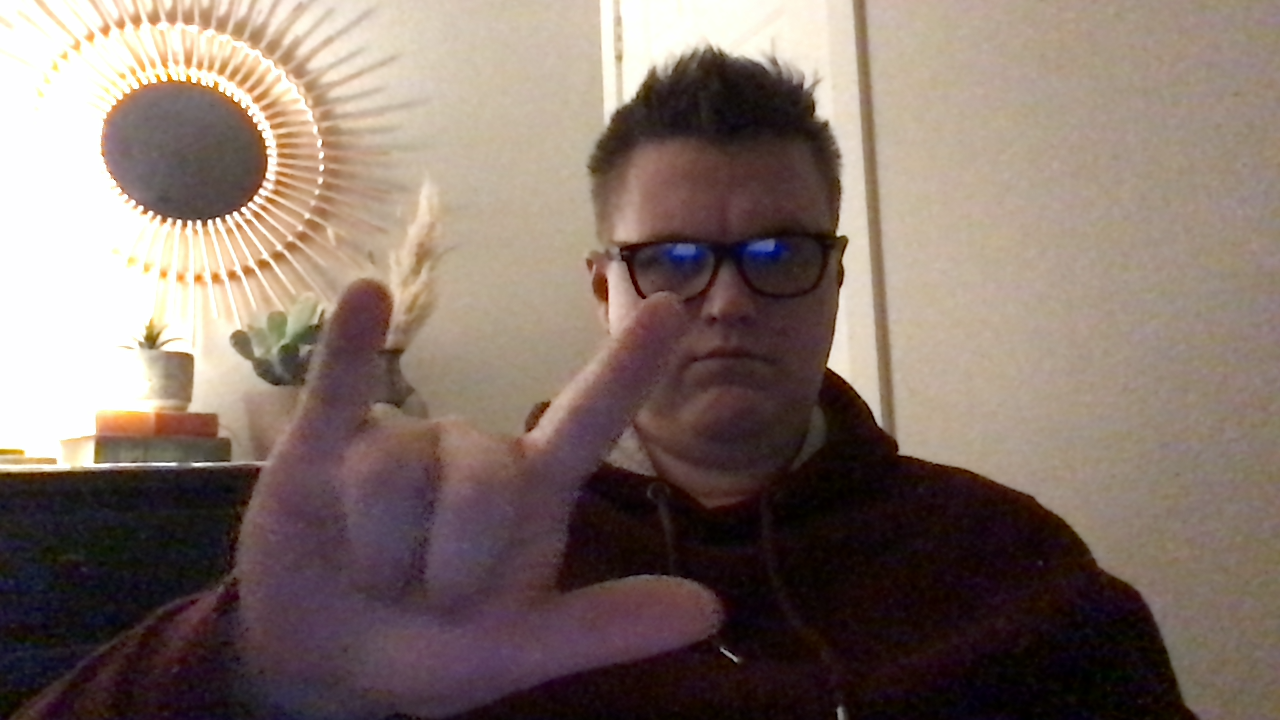iloveyou: (243, 272, 732, 720)
